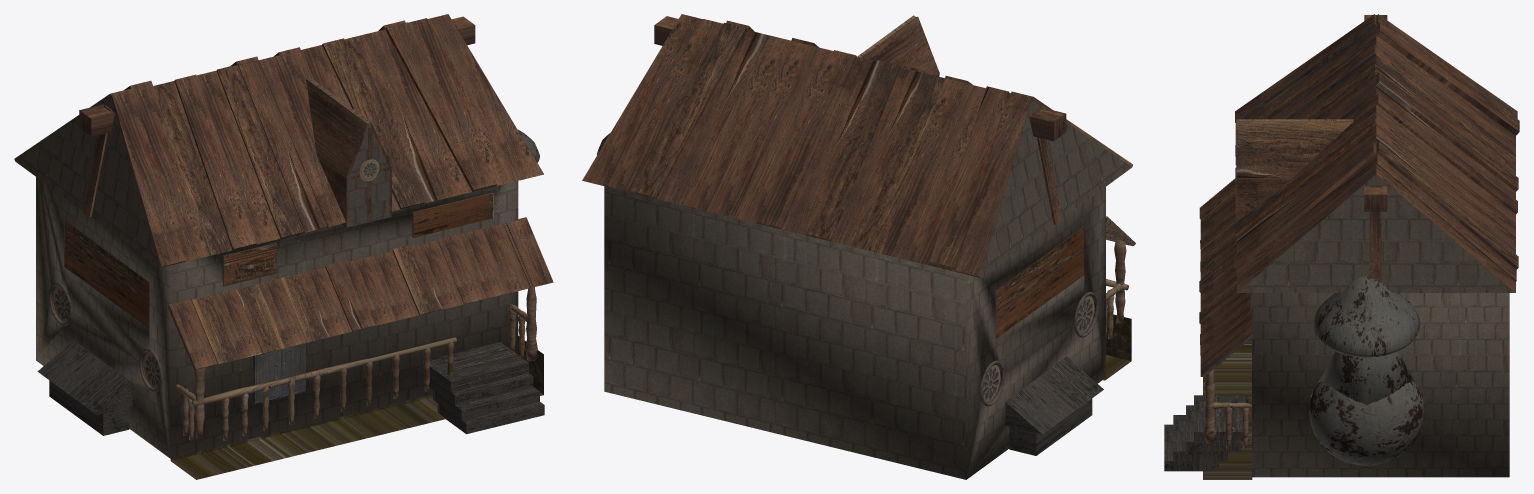
Rendered from maison.glb.
3 renders of one model, left to right at view 1: azimuth 30°, elevation 25°; view 2: azimuth 150°, elevation 25°; view 3: azimuth 270°, elevation 25°, orthographic. The views are drawn at different scales.
Visible parts, largest first — view 1: toit_15, structure_14, abri_4, base_7, Cylinder_0, escalier_10, barGauche_6, cave_8, porte_13, barDroite_5; view 2: structure_14, toit_15, cave_8, Cylinder_0, barGauche_6, base_7; view 3: toit_15, structure_14, champignon_9, abri_4, Cylinder_0, escalier_10, base_7, barDroite_5.
Boxes of the visible parts, bbox=[...] form: toit_15: bbox=[14, 14, 543, 267]; structure_14: bbox=[36, 177, 518, 458]; abri_4: bbox=[168, 217, 553, 369]; base_7: bbox=[170, 336, 543, 479]; Cylinder_0: bbox=[306, 77, 392, 227]; escalier_10: bbox=[422, 342, 544, 434]; barGauche_6: bbox=[175, 336, 456, 440]; cave_8: bbox=[37, 340, 132, 435]; porte_13: bbox=[253, 343, 305, 403]; barDroite_5: bbox=[508, 287, 537, 361]; structure_14: bbox=[604, 186, 1105, 479]; toit_15: bbox=[582, 14, 1132, 277]; cave_8: bbox=[1005, 356, 1103, 455]; Cylinder_0: bbox=[857, 15, 939, 76]; barGauche_6: bbox=[1106, 239, 1128, 342]; base_7: bbox=[1103, 313, 1131, 380]; toit_15: bbox=[1234, 14, 1519, 292]; structure_14: bbox=[1250, 293, 1509, 477]; champignon_9: bbox=[1309, 276, 1424, 465]; abri_4: bbox=[1199, 178, 1252, 376]; Cylinder_0: bbox=[1235, 119, 1353, 221]; escalier_10: bbox=[1164, 395, 1248, 471]; base_7: bbox=[1203, 341, 1252, 479]; barDroite_5: bbox=[1204, 369, 1251, 448].
Size of the model in its own units: 4.71 by 3.14 by 3.29.
1 material, 1 textured.
